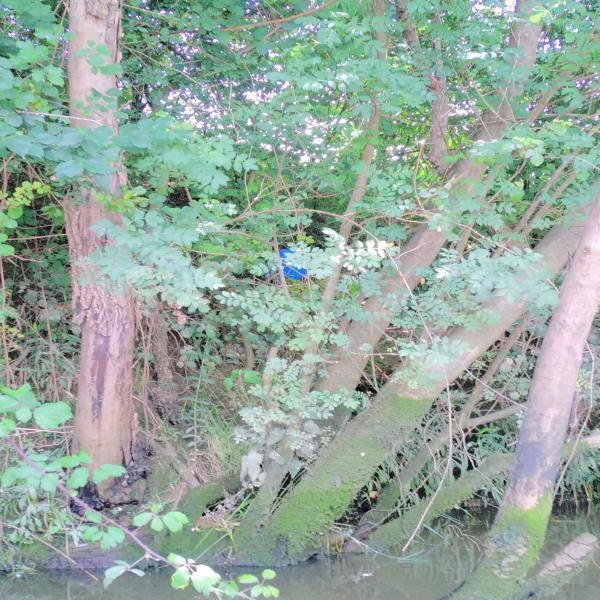others: (276, 249, 305, 277)
